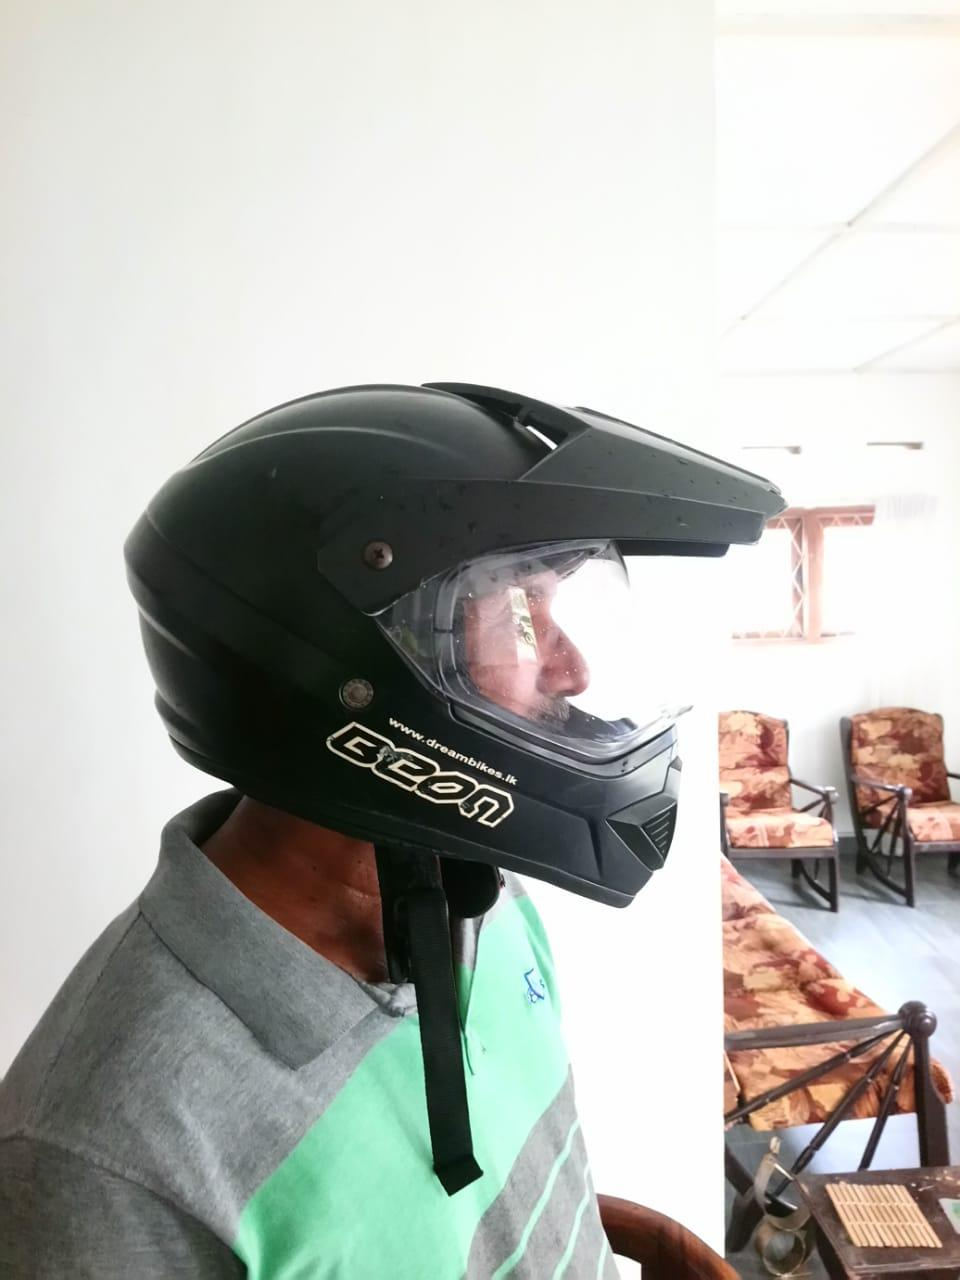helmet: (122, 380, 785, 910)
